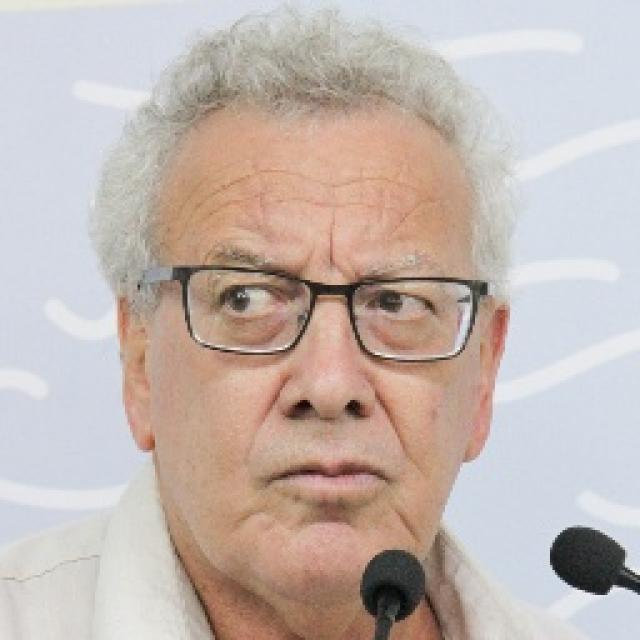earlobe: (124, 402, 155, 451), (462, 421, 494, 464)
eye: (368, 285, 440, 327), (215, 276, 286, 318)
nose: (283, 404, 373, 454)
wholeear: (463, 296, 511, 464), (114, 280, 154, 451)
